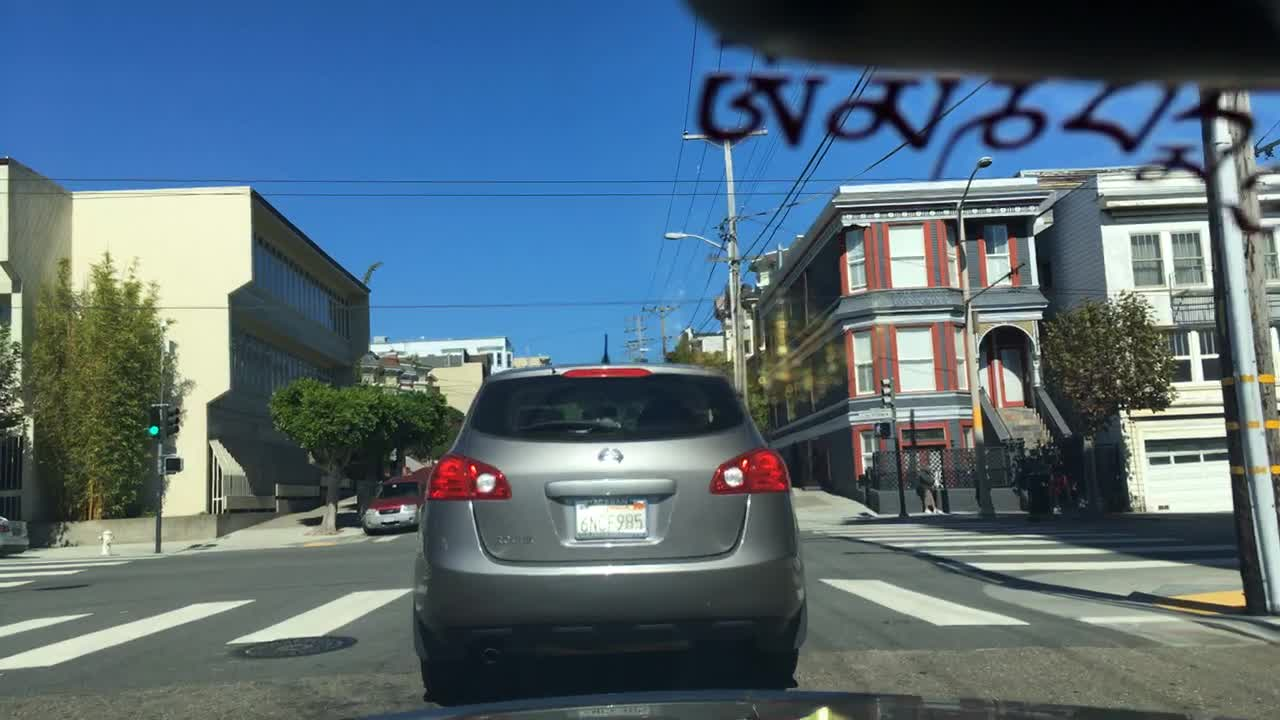car: (413, 364, 806, 685), (361, 468, 433, 537), (1, 512, 28, 554)
person: (919, 463, 939, 516)
traffic light: (165, 406, 182, 434), (878, 379, 893, 407), (161, 453, 182, 472), (148, 409, 158, 438)
